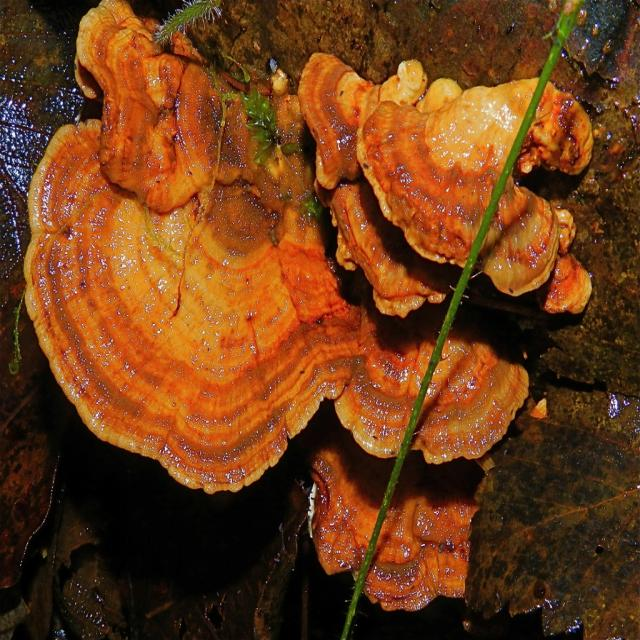Mushroom: (23, 0, 595, 613)
